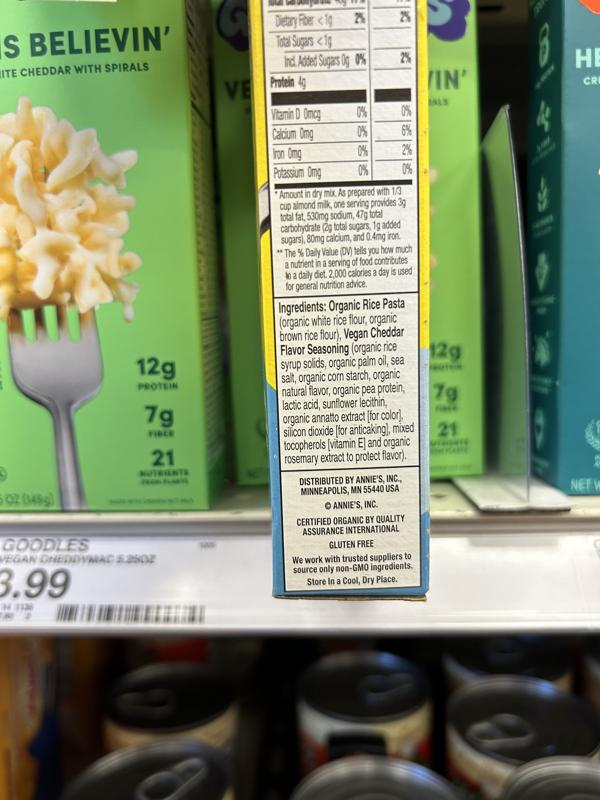ingredients: (277, 297, 416, 465)
